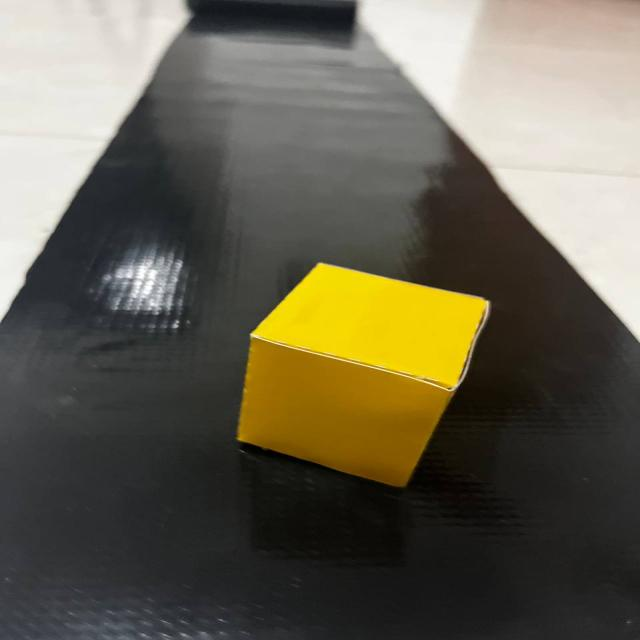Amarillo: (210, 245, 498, 510)
